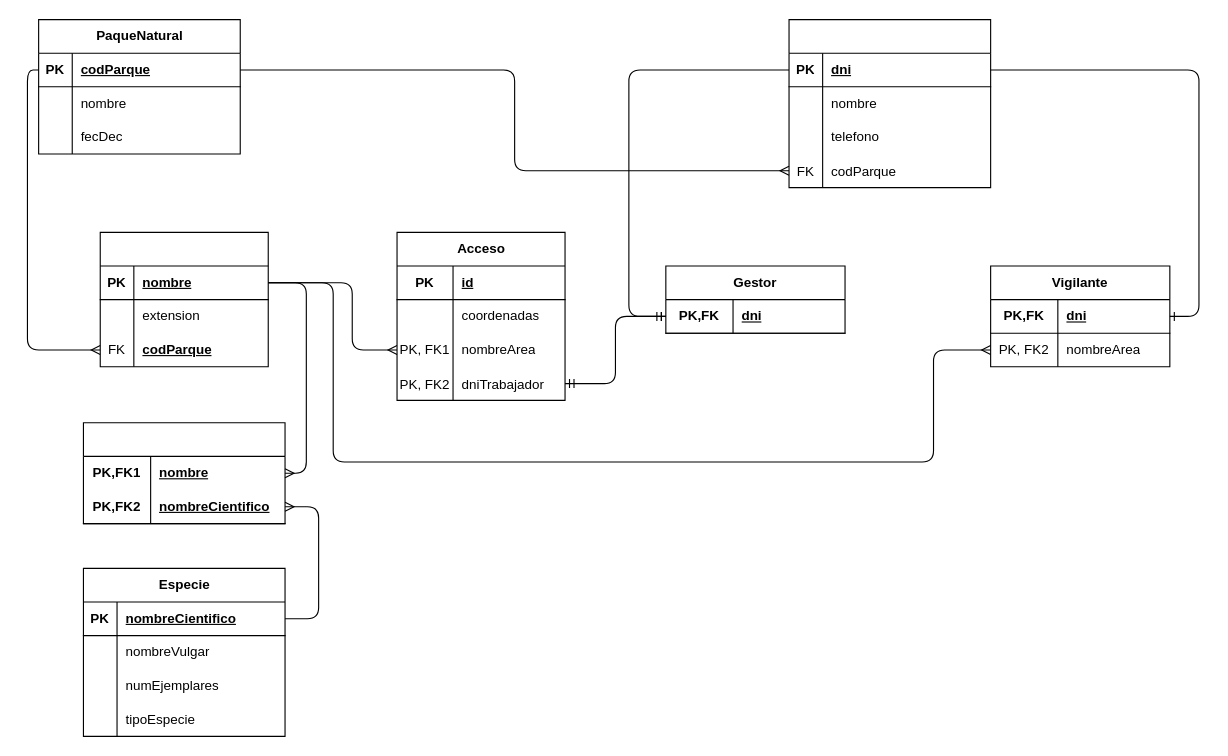
Image size: 1228x756. Some labels were removed from this diagram. Here are the shapes that lost their labels. From the top down, the box of each, then its label:
(788, 18, 991, 188): Trabajador
(99, 231, 268, 367): Area
(82, 422, 285, 524): Vive
